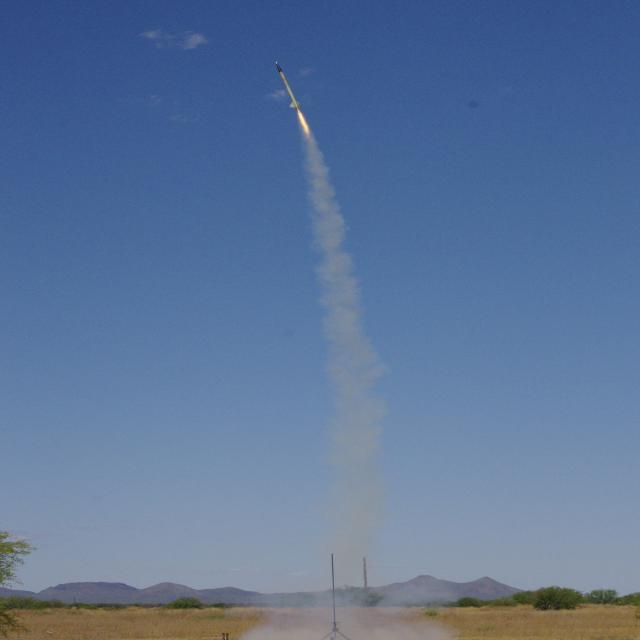Rocket: (275, 61, 301, 110)
